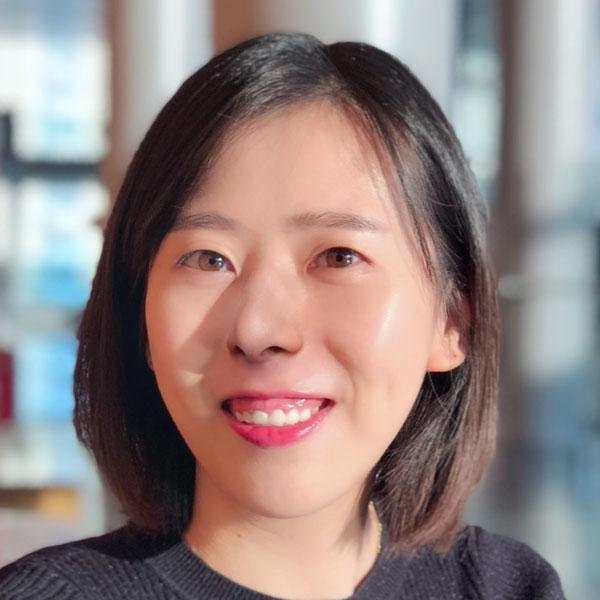Eyes: (169, 236, 247, 287), (296, 235, 376, 282)
